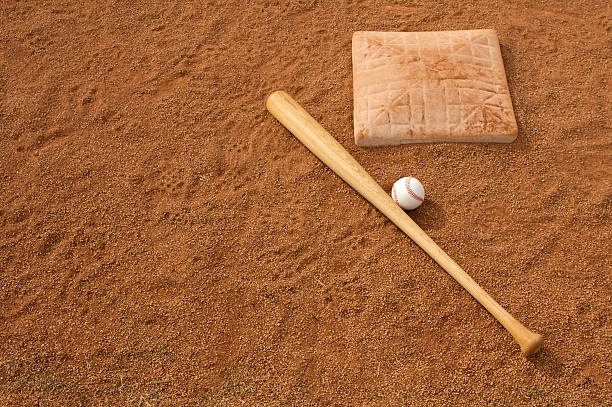bita: (265, 92, 540, 357)
